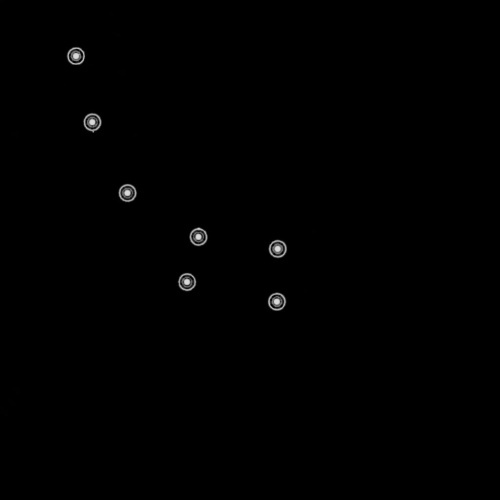ursa_minor: (63, 41, 294, 319)
